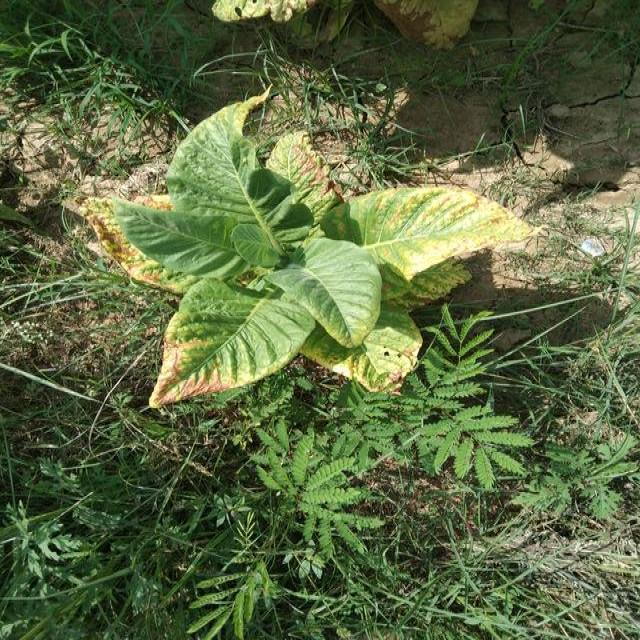crop: (88, 103, 524, 400), (217, 0, 474, 53)
